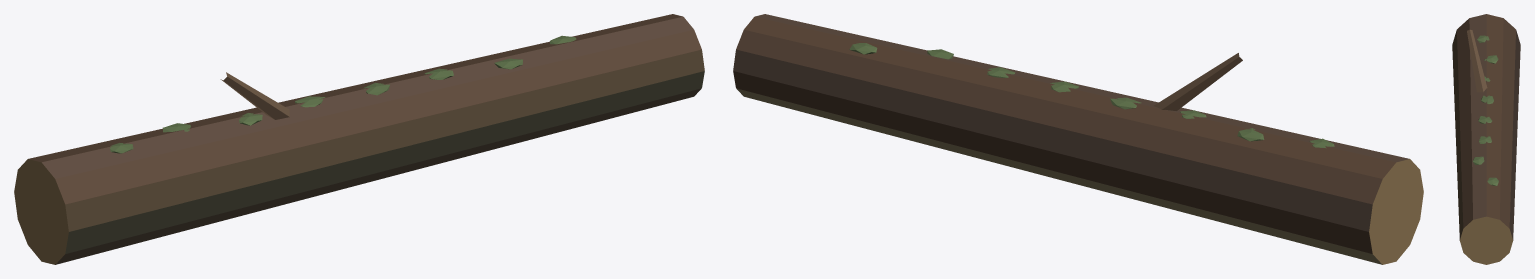
File: log.glb
3 renders of one model, left to right at view 1: azimuth 30°, elevation 25°; view 2: azimuth 150°, elevation 25°; view 3: azimuth 270°, elevation 25°, orthographic. The views are drawn at different scales.
Parts seen in each view (by area): view 1: log; view 2: log; view 3: log.
Part boxes in pixels (<box>): log: <box>14,14,704,264</box>; log: <box>733,14,1423,264</box>; log: <box>1452,14,1520,264</box>.
Size of the model in its own units: 4.6 by 1.08 by 0.68.
